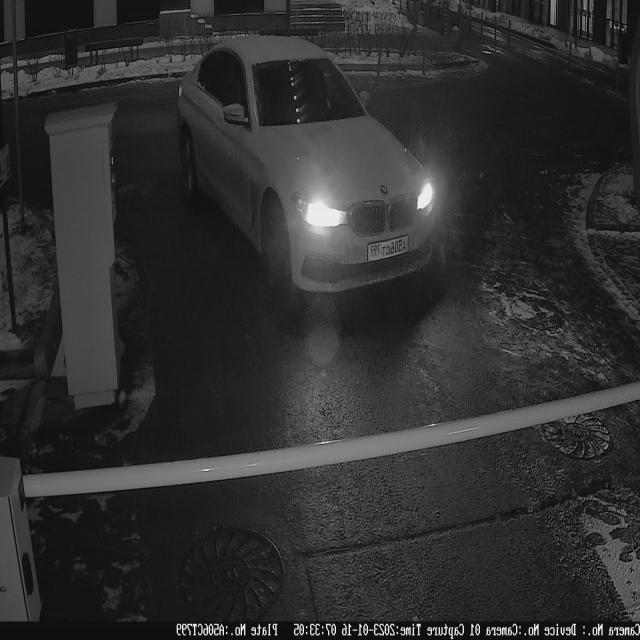car-plate-numbers: (366, 231, 411, 265)
